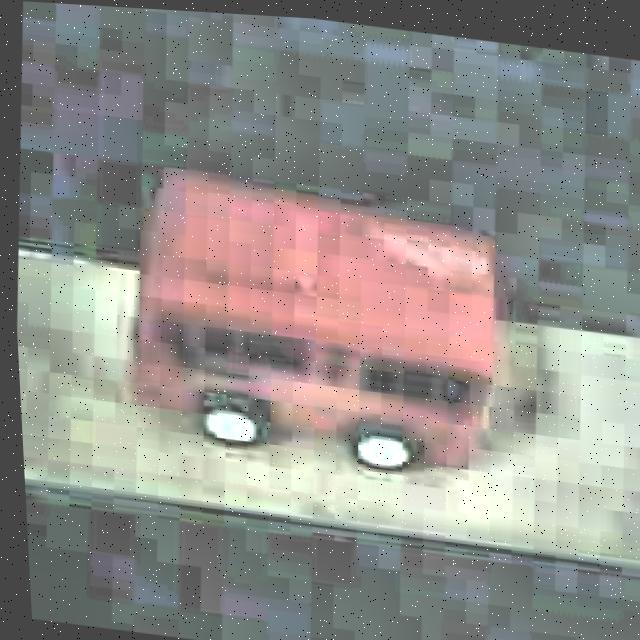bus: (118, 162, 526, 486)
